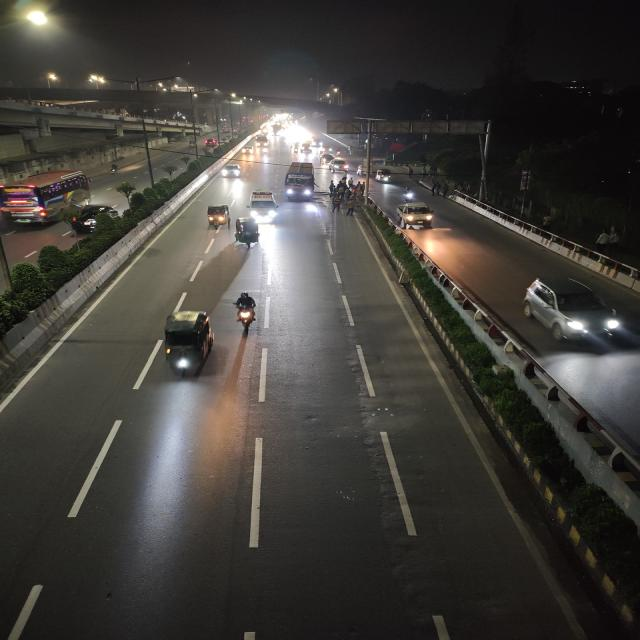bus: (0, 168, 95, 226), (282, 164, 318, 204)
car: (517, 274, 626, 347), (244, 192, 281, 221), (220, 162, 244, 180), (331, 159, 350, 173), (241, 146, 255, 156)
cng: (155, 307, 218, 381), (232, 216, 263, 252), (201, 202, 232, 234), (374, 170, 393, 184)
motorcycle: (230, 290, 264, 333), (402, 187, 417, 203), (106, 161, 122, 176)
pedestrian: (344, 202, 358, 218), (331, 196, 342, 214)
pickup_van: (394, 202, 438, 232)
